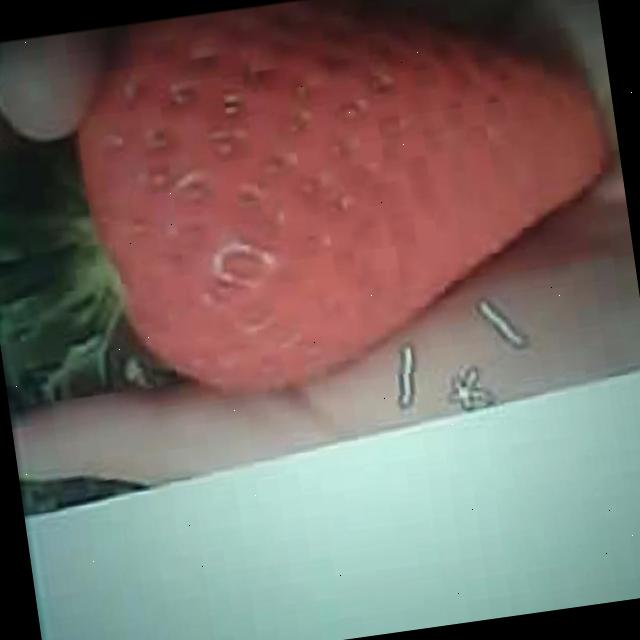strawberry: (62, 0, 633, 410)
